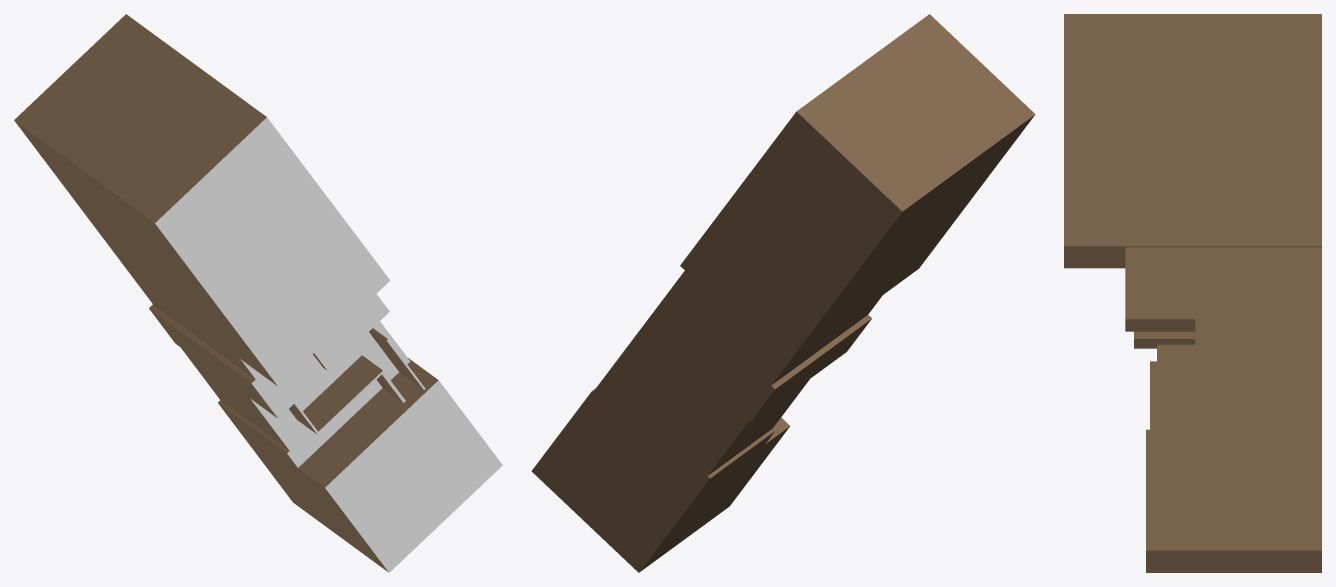
3 renders of one model, left to right at view 1: azimuth 30°, elevation 25°; view 2: azimuth 150°, elevation 25°; view 3: azimuth 270°, elevation 25°, orthographic. The views are drawn at different scales.
Visible parts, largest first — view 1: City_1885155; view 2: City_1885155; view 3: City_1885155.
Boxes of the visible parts, x1,y1,x2,y2 form: City_1885155: [14, 14, 502, 572]; City_1885155: [531, 14, 1035, 572]; City_1885155: [1064, 14, 1321, 572].
Bounding box in the file's own units: 2168 × 2791 × 1347.
